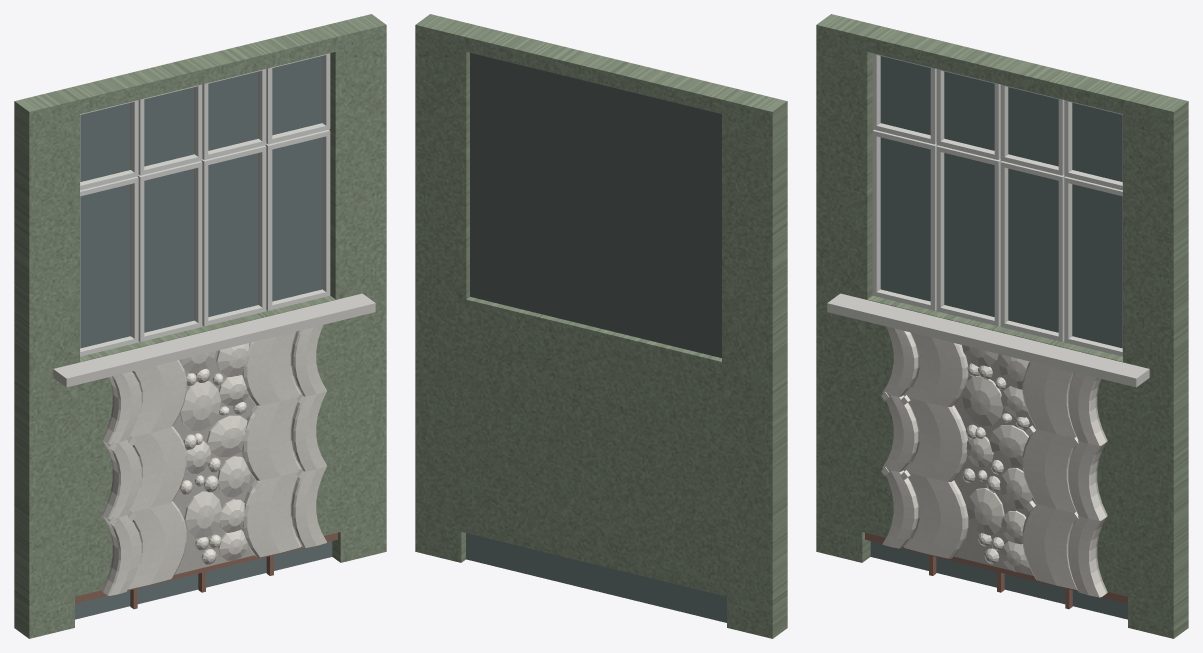
The model's file is petain-spandrel-far.glb.
The picture shows the model from 3 angles, left to right: view 1: azimuth 30°, elevation 25°; view 2: azimuth 150°, elevation 25°; view 3: azimuth 330°, elevation 25°; orthographic projection.
Parts seen in each view (by area): view 1: 贝当公寓临街窗下圆珠与弧带浮饰（2013年外观）; view 2: 贝当公寓临街窗下圆珠与弧带浮饰（2013年外观）; view 3: 贝当公寓临街窗下圆珠与弧带浮饰（2013年外观）.
Boxes of the visible parts, box(x1,y1,x2,y2) form: 贝当公寓临街窗下圆珠与弧带浮饰（2013年外观）: box(14, 14, 386, 638); 贝当公寓临街窗下圆珠与弧带浮饰（2013年外观）: box(415, 14, 787, 638); 贝当公寓临街窗下圆珠与弧带浮饰（2013年外观）: box(816, 14, 1188, 638).
Bounding box in the file's own units: 3.2 × 4.51 × 0.4355.
8 materials, 3 textured.
